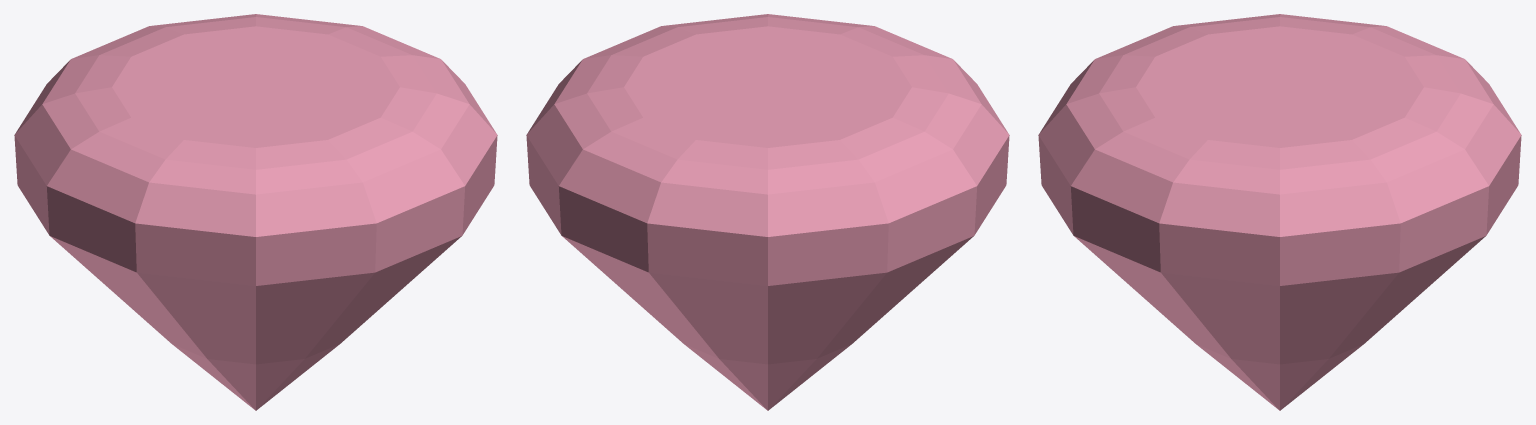
The model's file is Diamond.fbx.
The picture shows the model from 3 angles, left to right: view 1: azimuth 30°, elevation 25°; view 2: azimuth 150°, elevation 25°; view 3: azimuth 270°, elevation 25°; orthographic projection.
Parts seen in each view (by area): view 1: Diamond; view 2: Diamond; view 3: Diamond.
Part boxes in pixels (box(x1,y1,x2,y2)): Diamond: box(14, 14, 497, 410); Diamond: box(526, 14, 1009, 410); Diamond: box(1038, 14, 1521, 410).
Size of the model in its own units: 192 by 142 by 192.
